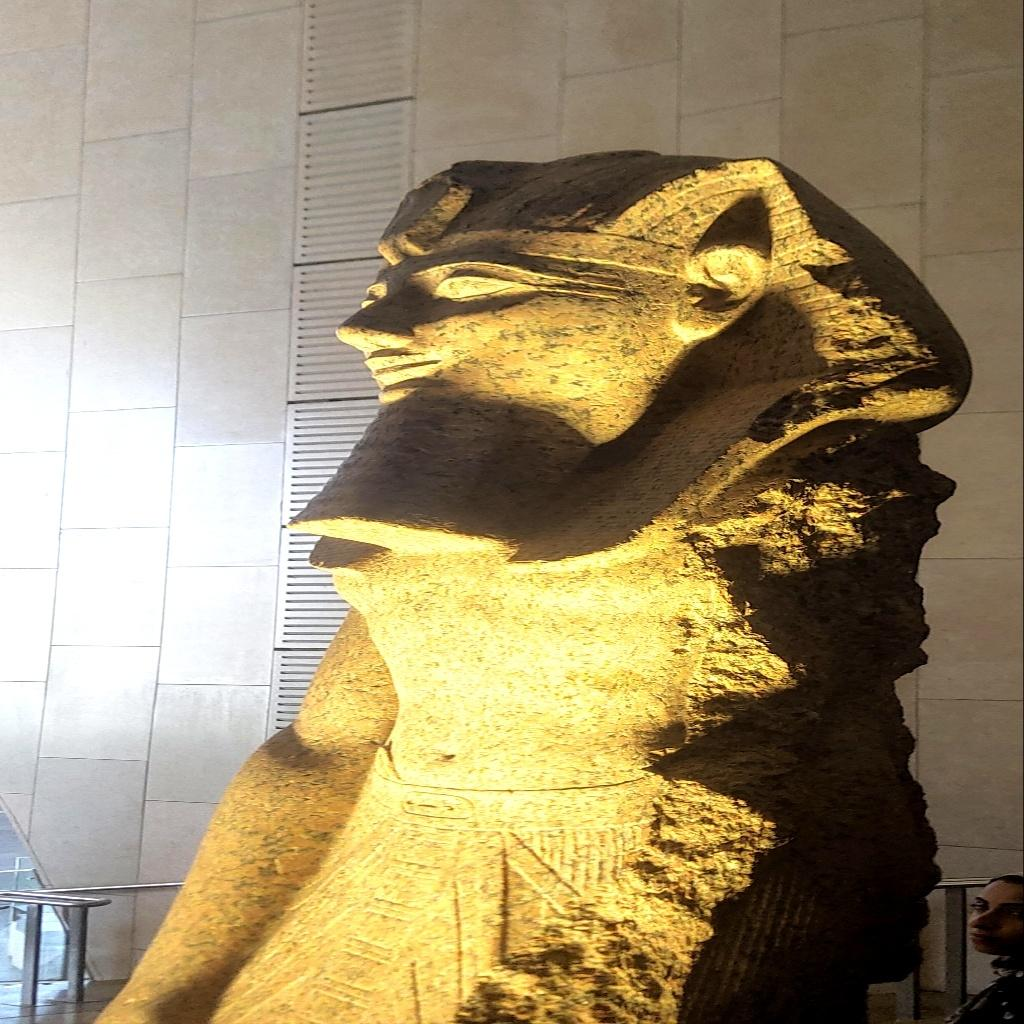Standing Statue of Thutmose III: (91, 146, 977, 1020)
